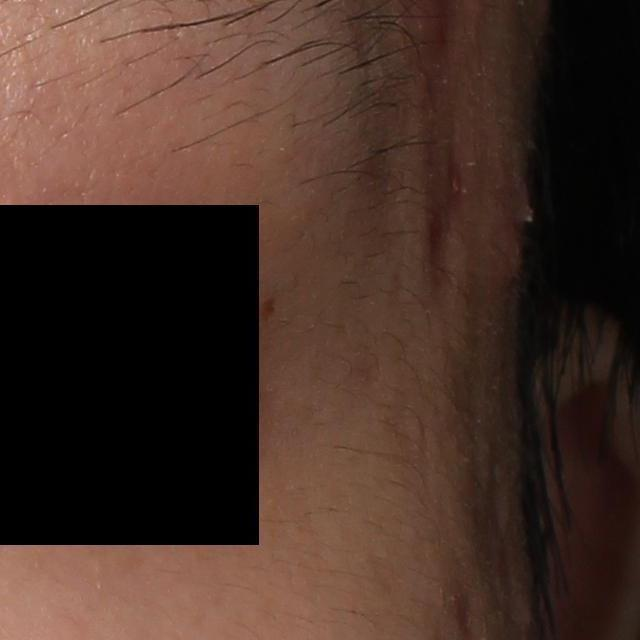nevus: (255, 294, 279, 329)
